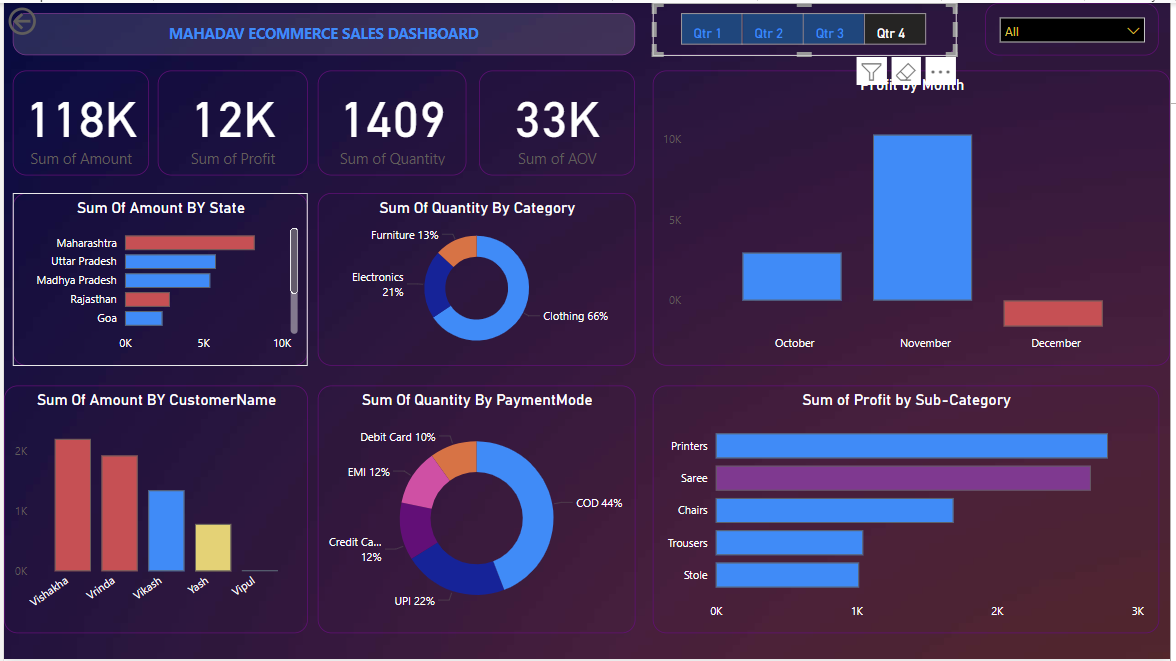

Layout of this report page (visuals, bound fields, positions):
{"tool":"powerbi","page":{"name":"Page 1","canvas":[1280,720],"ordinal":0},"visuals":[{"type":"textbox","box":[9.6,11,683.4,46.7],"z":0},{"type":"columnChart","title":"Profit by Month","fields":{"Category":["Orders.Order Date.Variation.Date Hierarchy.Month"],"Y":["Details.Profit"]},"box":[712.2,74.1,568.1,323.8],"z":1000},{"type":"barChart","fields":{"Category":["Details.Sub-Category"],"Y":["Details.Profit"]},"box":[712.2,419.9,555.7,271.7],"z":2000},{"type":"donutChart","title":"Sum  Of Quantity By Category","fields":{"Series":["Details.Category"],"Y":["Details.Quantity"]},"box":[344.4,208.6,348.5,189.4],"z":3000},{"type":"donutChart","title":"Sum  Of Quantity By PaymentMode","fields":{"Y":["Details.Quantity"],"Category":["Details.PaymentMode"]},"box":[344.4,419.9,348.5,271.7],"z":4000},{"type":"card","title":"Sum  Of Quantity By Category","fields":{"Values":["Details.Quantity"]},"box":[344.4,74.1,163.3,115.3],"z":5000},{"type":"card","title":"Sum  Of Quantity By Category","fields":{"Values":["Details.AOV"]},"box":[521.4,74.1,171.5,115.3],"z":6000},{"type":"card","title":"Sum  Of Quantity By Category","fields":{"Values":["Details.Amount"]},"box":[9.6,74.1,149.6,115.3],"z":7000},{"type":"card","title":"Sum  Of Quantity By Category","fields":{"Values":["Details.Profit"]},"box":[168.8,74.1,164.7,115.3],"z":8000},{"type":"columnChart","title":"Sum Of Amount BY CustomerName","fields":{"Category":["Orders.CustomerName"],"Y":["Details.Amount"]},"box":[0,419.9,333.4,271.7],"z":9000},{"type":"clusteredBarChart","title":"Sum Of Amount BY State","fields":{"Category":["Orders.State"],"Y":["Details.Amount"]},"box":[9.6,208.6,323.8,189.4],"z":10000},{"type":"advancedSlicerVisual","fields":{"Values":["Orders.Order Date.Variation.Date Hierarchy.Quarter"]},"box":[712.2,0,333.4,57.6],"z":11000},{"type":"slicer","title":"Sum  Of Quantity By Category","fields":{"Values":["Orders.State"]},"box":[1077.2,0,190.7,57.6],"z":12000},{"type":"actionButton","box":[0,0,100,40],"z":13000}]}

Visuals, with their boxes on the page's 1280x720 design canvas (x1, y1, x2, y2). These are canvas units, not pixel positions in the 1176x661 screenshot, which may show the page scaled, cropped or inside an application window:
textbox: 10 11 693 58
"Profit by Month" columnChart: 712 74 1280 398
barChart - Details.Sub-Category x Details.Profit: 712 420 1268 692
"Sum  Of Quantity By Category" donutChart: 344 209 693 398
"Sum  Of Quantity By PaymentMode" donutChart: 344 420 693 692
"Sum  Of Quantity By Category" card: 344 74 508 189
"Sum  Of Quantity By Category" card: 521 74 693 189
"Sum  Of Quantity By Category" card: 10 74 159 189
"Sum  Of Quantity By Category" card: 169 74 334 189
"Sum Of Amount BY CustomerName" columnChart: 0 420 333 692
"Sum Of Amount BY State" clusteredBarChart: 10 209 333 398
advancedSlicerVisual - Orders.Order Date.Variation.Date Hierarchy.Quarter: 712 0 1046 58
"Sum  Of Quantity By Category" slicer: 1077 0 1268 58
actionButton: 0 0 100 40
